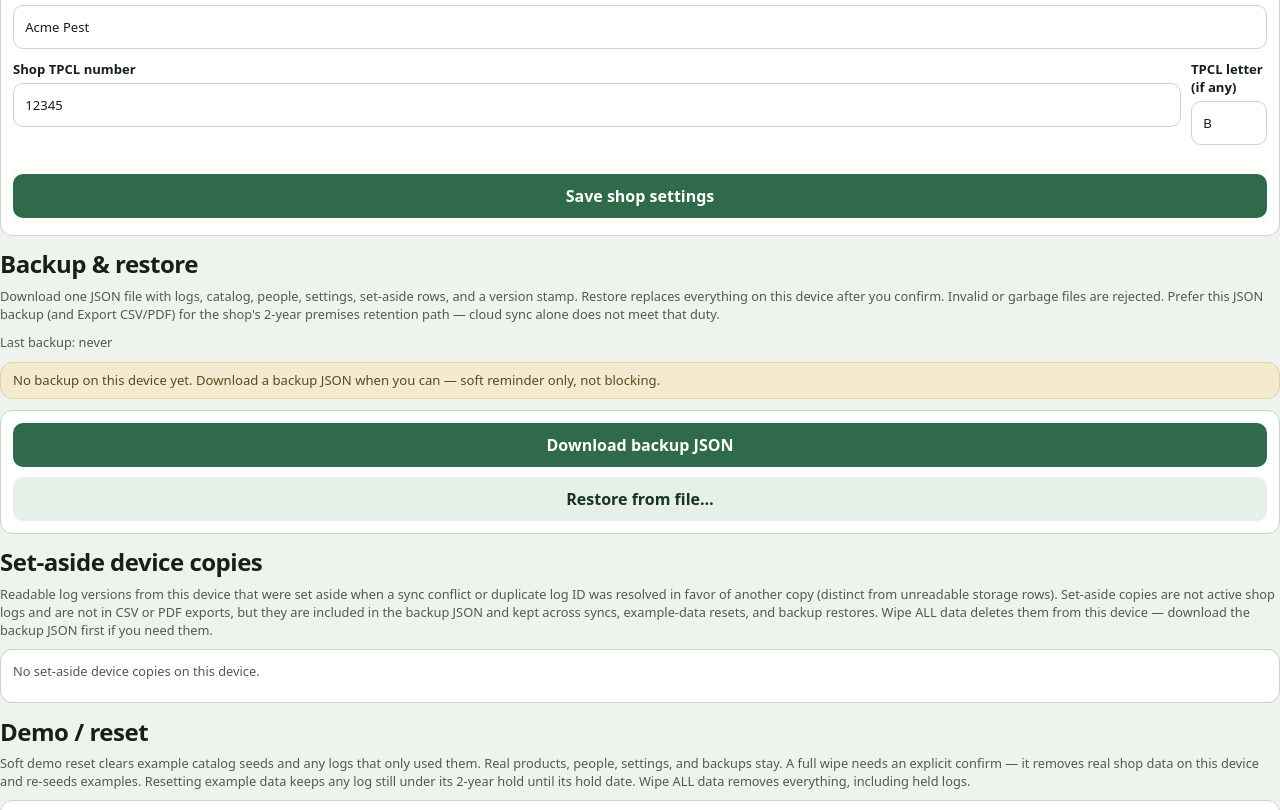
Test case: Settings backup: download (shared shop) › a canceled pull downloads nothing and does not stamp a backup
(page scrolled)
Step 1. Click the button "Download backup JSON" → (640, 445), box [13,423,1267,467]
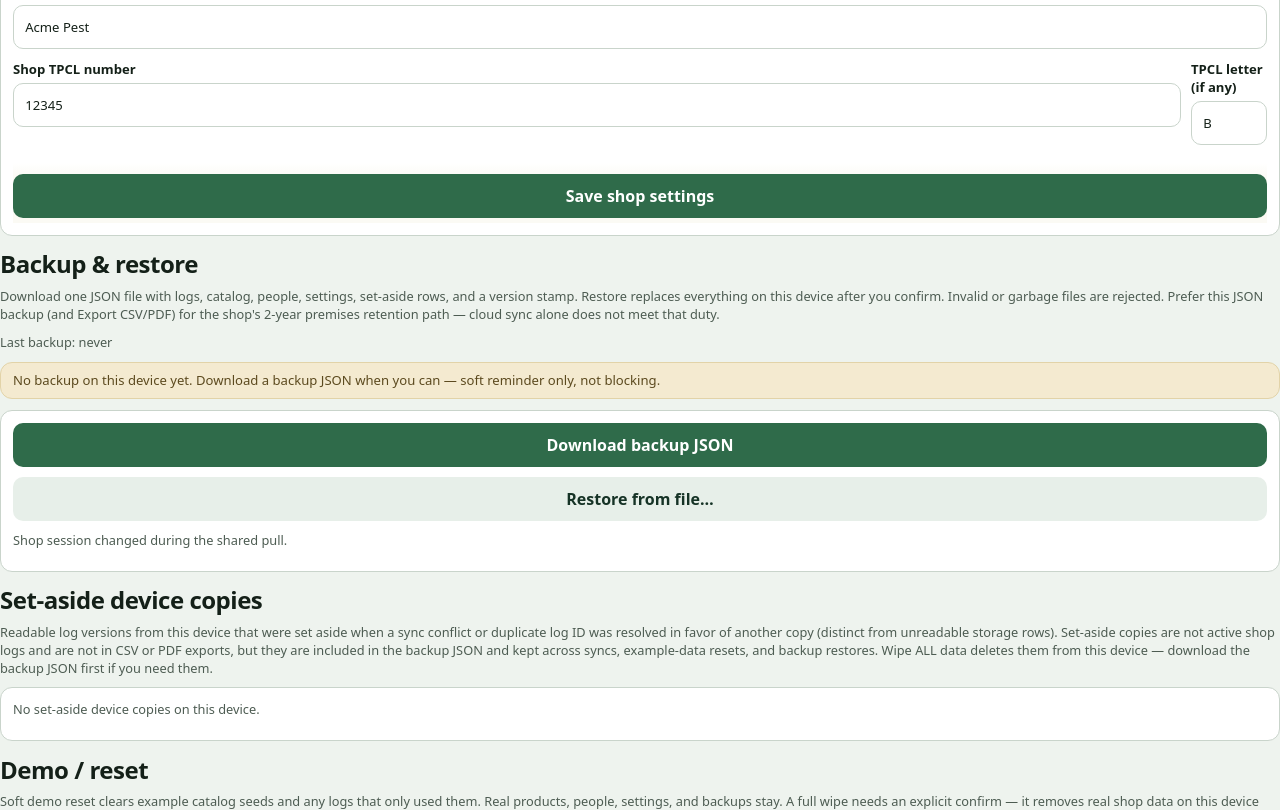
Result: the message "Shop session changed during the shared pull." is shown at [13,531,287,549]
